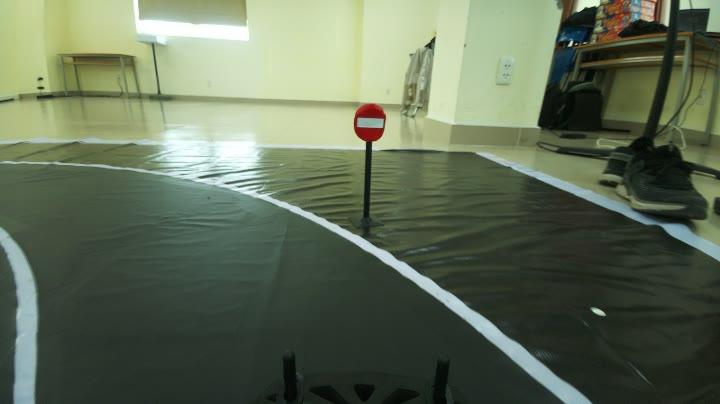no_entry: (346, 97, 394, 139)
